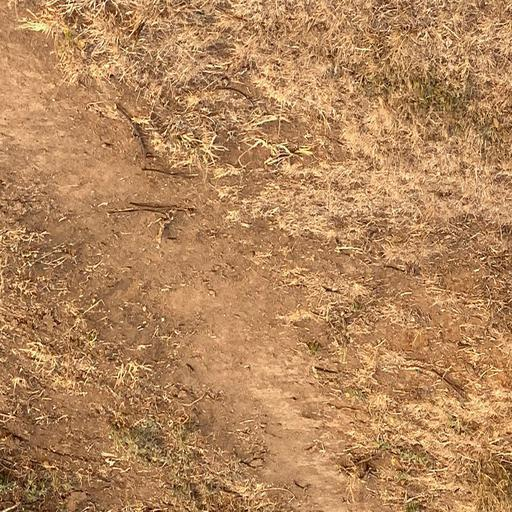vehicle_track: (1, 0, 407, 512)
